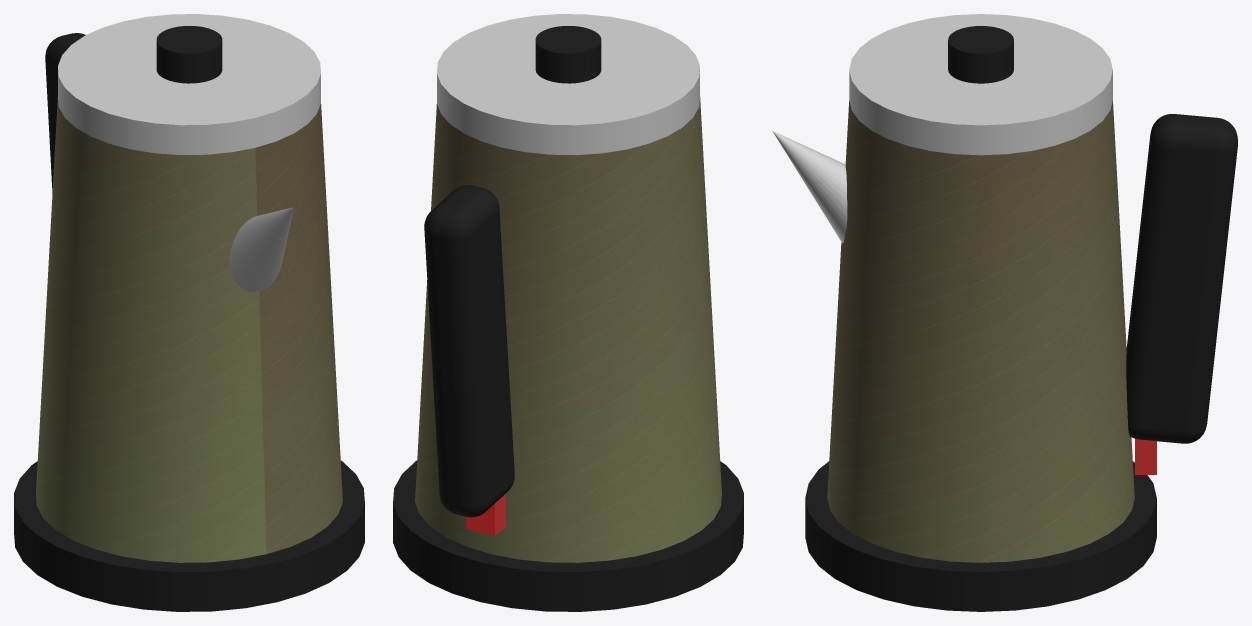
The model's file is state-default.glb.
The picture shows the model from 3 angles, left to right: view 1: azimuth 30°, elevation 25°; view 2: azimuth 150°, elevation 25°; view 3: azimuth 270°, elevation 25°; orthographic projection.
Visible parts, largest first — view 1: assetPrim:b9d431e7a8db-19c73d7935a:kettle-main-vessel, assetPrim:b9d431e7a8db-19c73d7935a:kettle-lid, assetPrim:b9d431e7a8db-19c73d7935a:kettle-power-base, assetPrim:b9d431e7a8db-19c73d7935a:kettle-spout, assetPrim:b9d431e7a8db-19c73d7935a:kettle-lid-knob, assetPrim:b9d431e7a8db-19c73d7935a:kettle-handle; view 2: assetPrim:b9d431e7a8db-19c73d7935a:kettle-main-vessel, assetPrim:b9d431e7a8db-19c73d7935a:kettle-lid, assetPrim:b9d431e7a8db-19c73d7935a:kettle-handle, assetPrim:b9d431e7a8db-19c73d7935a:kettle-power-base, assetPrim:b9d431e7a8db-19c73d7935a:kettle-lid-knob, assetPrim:b9d431e7a8db-19c73d7935a:kettle-switch; view 3: assetPrim:b9d431e7a8db-19c73d7935a:kettle-main-vessel, assetPrim:b9d431e7a8db-19c73d7935a:kettle-handle, assetPrim:b9d431e7a8db-19c73d7935a:kettle-lid, assetPrim:b9d431e7a8db-19c73d7935a:kettle-power-base, assetPrim:b9d431e7a8db-19c73d7935a:kettle-lid-knob, assetPrim:b9d431e7a8db-19c73d7935a:kettle-spout, assetPrim:b9d431e7a8db-19c73d7935a:kettle-switch.
Part boxes in pixels (x1,y1,x2,y2): assetPrim:b9d431e7a8db-19c73d7935a:kettle-main-vessel: [36, 97, 342, 562]; assetPrim:b9d431e7a8db-19c73d7935a:kettle-lid: [58, 14, 320, 154]; assetPrim:b9d431e7a8db-19c73d7935a:kettle-power-base: [14, 460, 364, 611]; assetPrim:b9d431e7a8db-19c73d7935a:kettle-spout: [229, 207, 293, 292]; assetPrim:b9d431e7a8db-19c73d7935a:kettle-lid-knob: [156, 26, 222, 83]; assetPrim:b9d431e7a8db-19c73d7935a:kettle-handle: [45, 33, 85, 192]; assetPrim:b9d431e7a8db-19c73d7935a:kettle-main-vessel: [415, 97, 721, 562]; assetPrim:b9d431e7a8db-19c73d7935a:kettle-lid: [437, 14, 699, 154]; assetPrim:b9d431e7a8db-19c73d7935a:kettle-handle: [424, 185, 514, 517]; assetPrim:b9d431e7a8db-19c73d7935a:kettle-power-base: [393, 460, 743, 611]; assetPrim:b9d431e7a8db-19c73d7935a:kettle-lid-knob: [535, 26, 601, 83]; assetPrim:b9d431e7a8db-19c73d7935a:kettle-switch: [466, 493, 505, 535]; assetPrim:b9d431e7a8db-19c73d7935a:kettle-main-vessel: [827, 100, 1134, 562]; assetPrim:b9d431e7a8db-19c73d7935a:kettle-handle: [1126, 114, 1237, 443]; assetPrim:b9d431e7a8db-19c73d7935a:kettle-lid: [849, 14, 1112, 155]; assetPrim:b9d431e7a8db-19c73d7935a:kettle-power-base: [805, 461, 1156, 611]; assetPrim:b9d431e7a8db-19c73d7935a:kettle-lid-knob: [948, 26, 1013, 83]; assetPrim:b9d431e7a8db-19c73d7935a:kettle-spout: [772, 131, 847, 243]; assetPrim:b9d431e7a8db-19c73d7935a:kettle-switch: [1135, 438, 1156, 474].
Bounding box in the file's own units: 0.16 × 0.25 × 0.212.
Materials: 7 (1 with a texture image).
